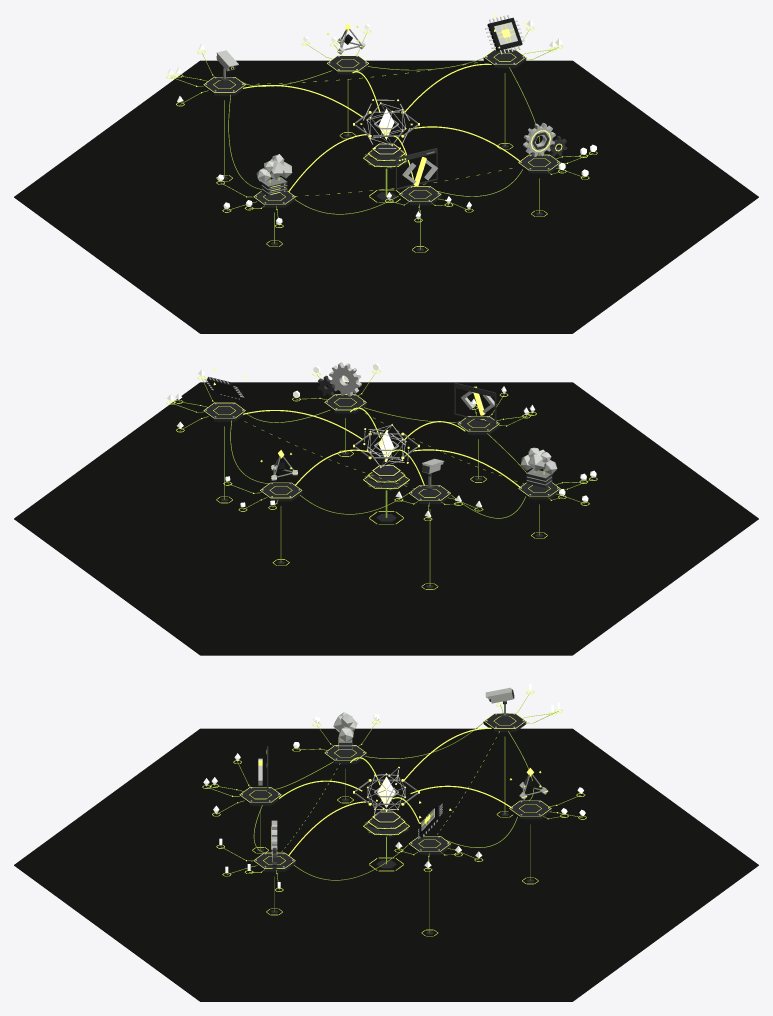
Rendered from knowledge.glb.
3 renders of one model, top to bottom at view 1: azimuth 30°, elevation 25°; view 2: azimuth 150°, elevation 25°; view 3: azimuth 270°, elevation 25°, orthographic.
Visible parts, largest first — view 1: Floor, Emblem_5_cloud, Emblem_2_ai, Hub_2_ai, Hub_1_networking, Emblem_4_webdev, Hub_4_webdev, Hub_6_cctv, Hub_3_systems, Emblem_3_systems, Hub_5_cloud; view 2: Floor, Emblem_5_cloud, Hub_6_cctv, Hub_1_networking, Hub_2_ai, Emblem_4_webdev, Hub_3_systems, Hub_4_webdev, Emblem_3_systems, Hub_5_cloud; view 3: Floor, Hub_6_cctv, Hub_1_networking, Hub_2_ai, Hub_4_webdev, Hub_3_systems, Hub_5_cloud, Emblem_5_cloud.
Boxes of the visible parts, bbox=[...] form: Floor: bbox=[14, 60, 758, 333]; Emblem_5_cloud: bbox=[256, 154, 292, 196]; Emblem_2_ai: bbox=[485, 14, 526, 54]; Hub_2_ai: bbox=[483, 49, 526, 149]; Hub_1_networking: bbox=[326, 55, 369, 138]; Emblem_4_webdev: bbox=[395, 148, 437, 189]; Hub_4_webdev: bbox=[398, 186, 441, 252]; Hub_6_cctv: bbox=[203, 77, 245, 181]; Hub_3_systems: bbox=[518, 154, 560, 216]; Emblem_3_systems: bbox=[523, 123, 555, 156]; Hub_5_cloud: bbox=[253, 191, 295, 246]; Floor: bbox=[14, 382, 758, 655]; Emblem_5_cloud: bbox=[520, 447, 557, 487]; Hub_6_cctv: bbox=[408, 485, 451, 589]; Hub_1_networking: bbox=[259, 482, 302, 565]; Hub_2_ai: bbox=[203, 402, 245, 503]; Emblem_4_webdev: bbox=[454, 382, 496, 424]; Hub_3_systems: bbox=[324, 394, 366, 456]; Hub_4_webdev: bbox=[457, 416, 499, 482]; Emblem_3_systems: bbox=[329, 362, 361, 396]; Hub_5_cloud: bbox=[518, 482, 560, 538]; Floor: bbox=[14, 728, 758, 1001]; Hub_6_cctv: bbox=[483, 713, 526, 817]; Hub_1_networking: bbox=[509, 800, 551, 884]; Hub_2_ai: bbox=[408, 836, 451, 936]; Hub_4_webdev: bbox=[239, 787, 281, 853]; Hub_3_systems: bbox=[253, 852, 295, 915]; Hub_5_cloud: bbox=[324, 745, 366, 803]; Emblem_5_cloud: bbox=[333, 712, 357, 752].
Bounding box in the file's own units: 69.28 × 14.92 × 80.
